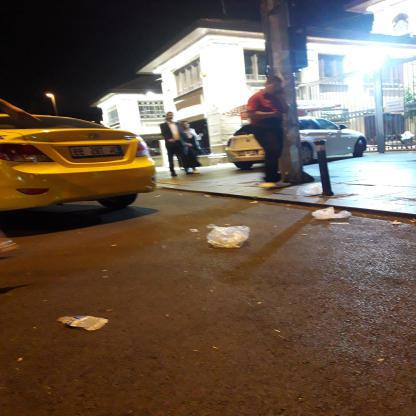plastik: (169, 207, 193, 251), (86, 58, 102, 110), (197, 313, 211, 353)
